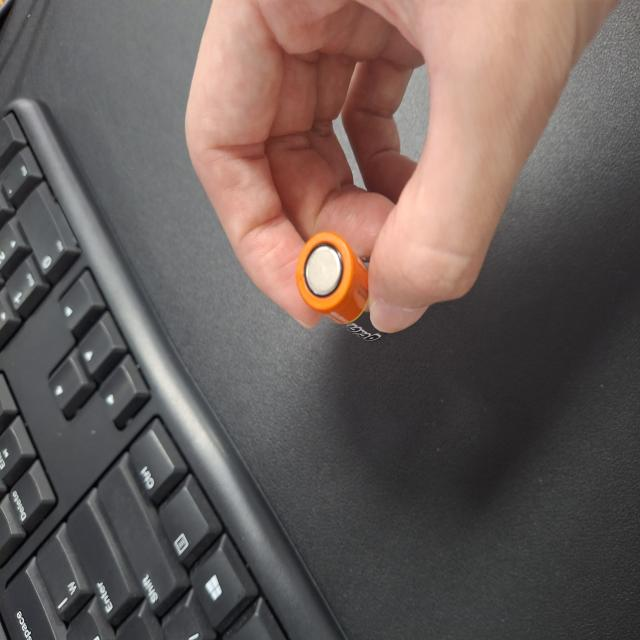AA: (224, 395, 306, 510)
